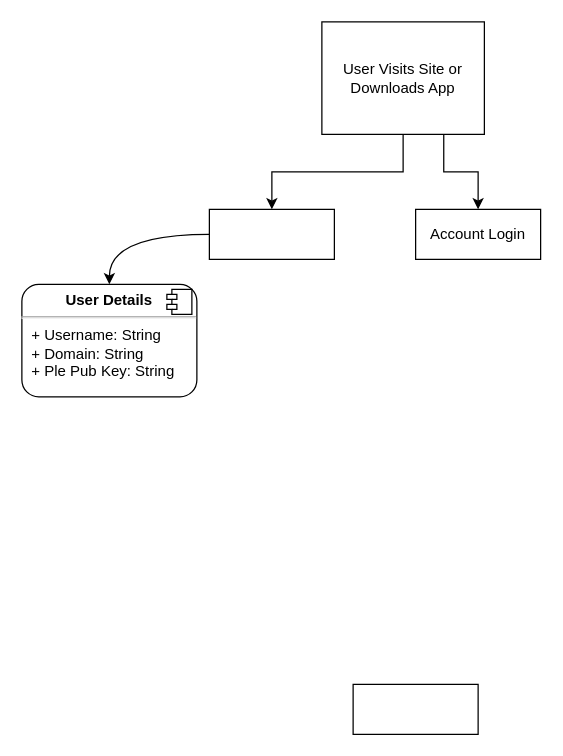
Image size: 563x756. Some labels were removed from this diagram. Each missing label, with the centre of its shape:
End: the point at 415,708
New User Registration: the point at 271,233
